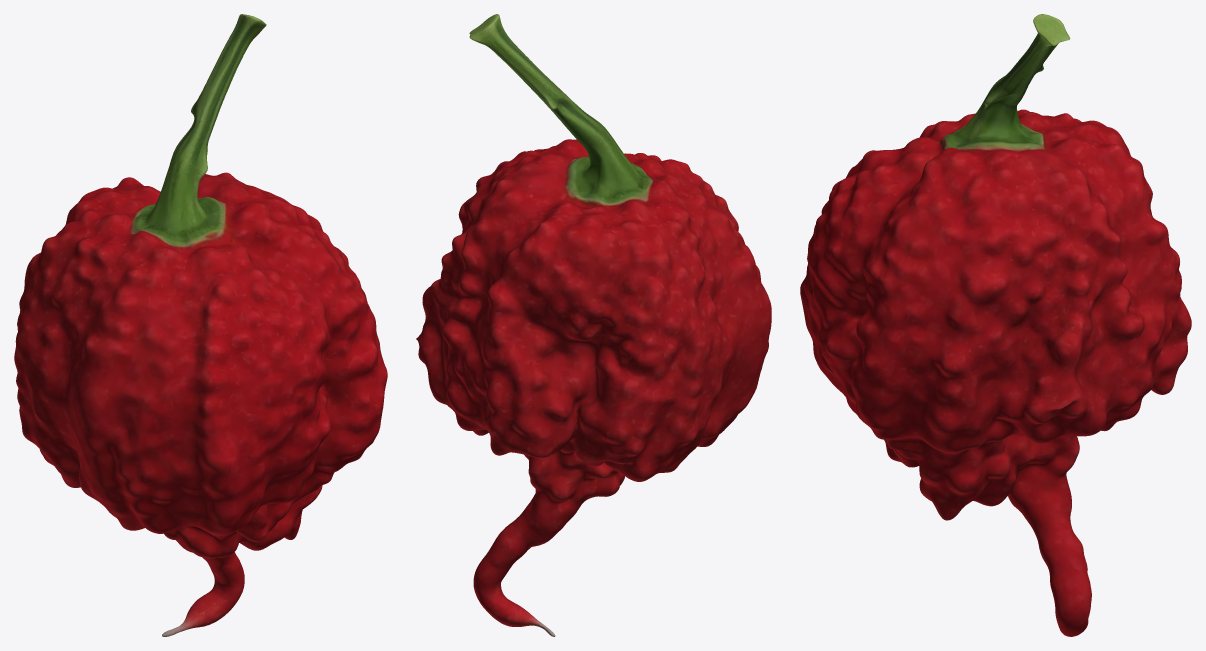
The model's file is reaper.glb.
3 views of the same model, side by side, from view 1: azimuth 30°, elevation 25°; view 2: azimuth 150°, elevation 25°; view 3: azimuth 270°, elevation 25° (orthographic). The views are drawn at different scales.
Size of the model in its own units: 0.9832 by 1.9 by 1.06.
1 material, 1 textured.
